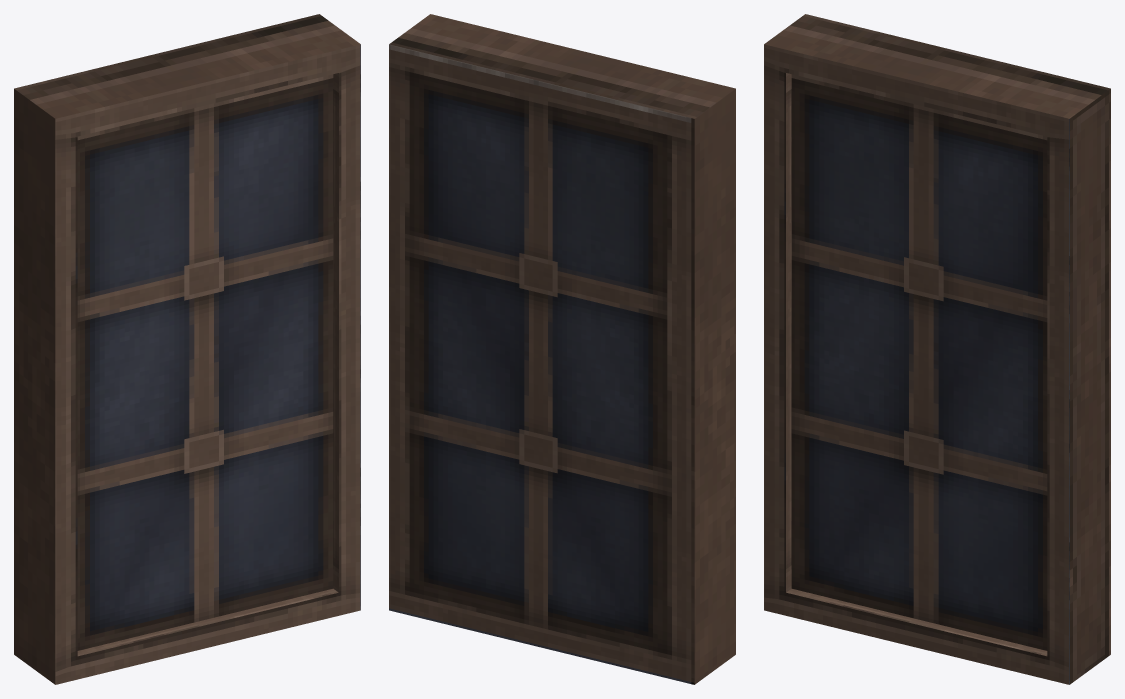
Rendered from window_rectangle.glb.
3 views of the same model, side by side, from view 1: azimuth 30°, elevation 25°; view 2: azimuth 150°, elevation 25°; view 3: azimuth 330°, elevation 25° (orthographic).
Parts seen in each view (by area): view 1: window_rectangle; view 2: window_rectangle; view 3: window_rectangle.
Part boxes in pixels (box(x1,y1,x2,y2)): window_rectangle: box(14, 14, 360, 684); window_rectangle: box(389, 14, 735, 684); window_rectangle: box(764, 14, 1110, 684).
Bounding box in the file's own units: 0.953 × 1.69 × 0.2239.
Materials: 1 (1 with a texture image).
